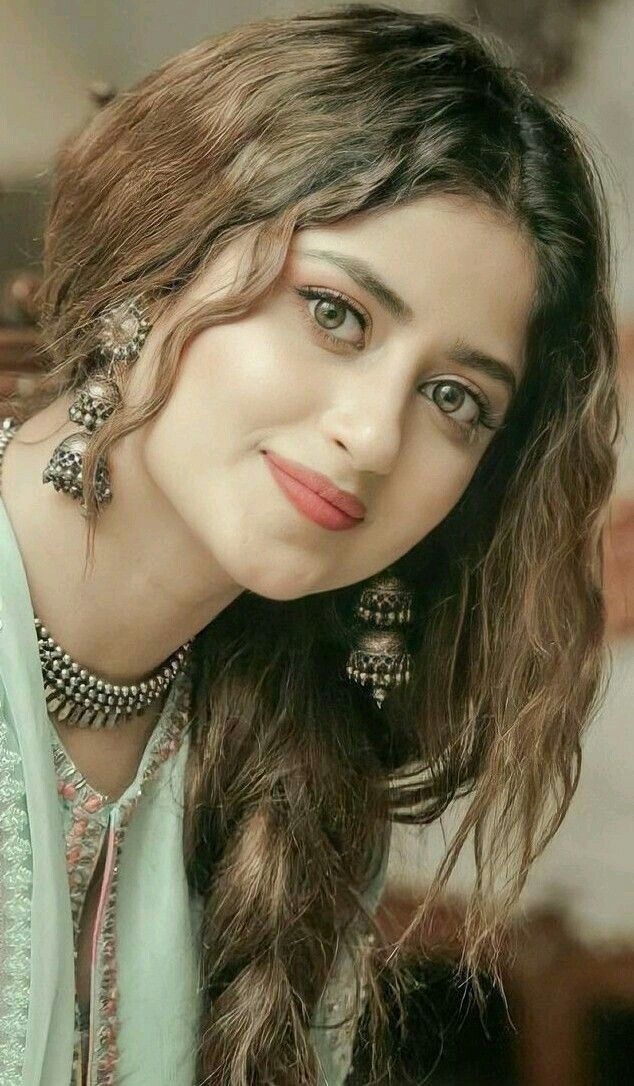NoMask: (173, 241, 521, 593)
